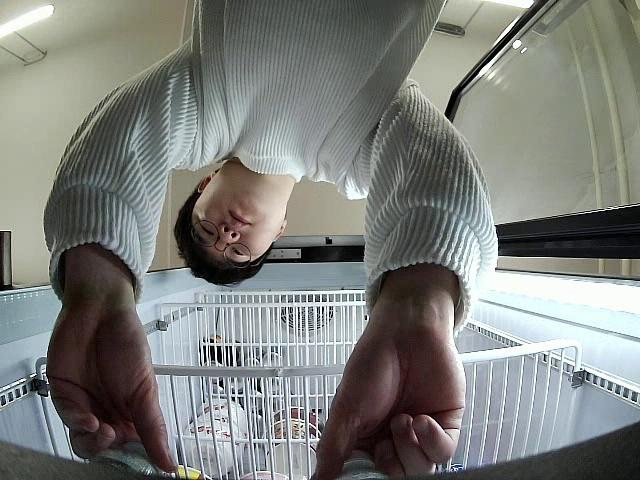00_hand: (313, 320, 467, 480), (47, 307, 178, 473)
19_17cha: (81, 435, 166, 480), (326, 449, 393, 480)
